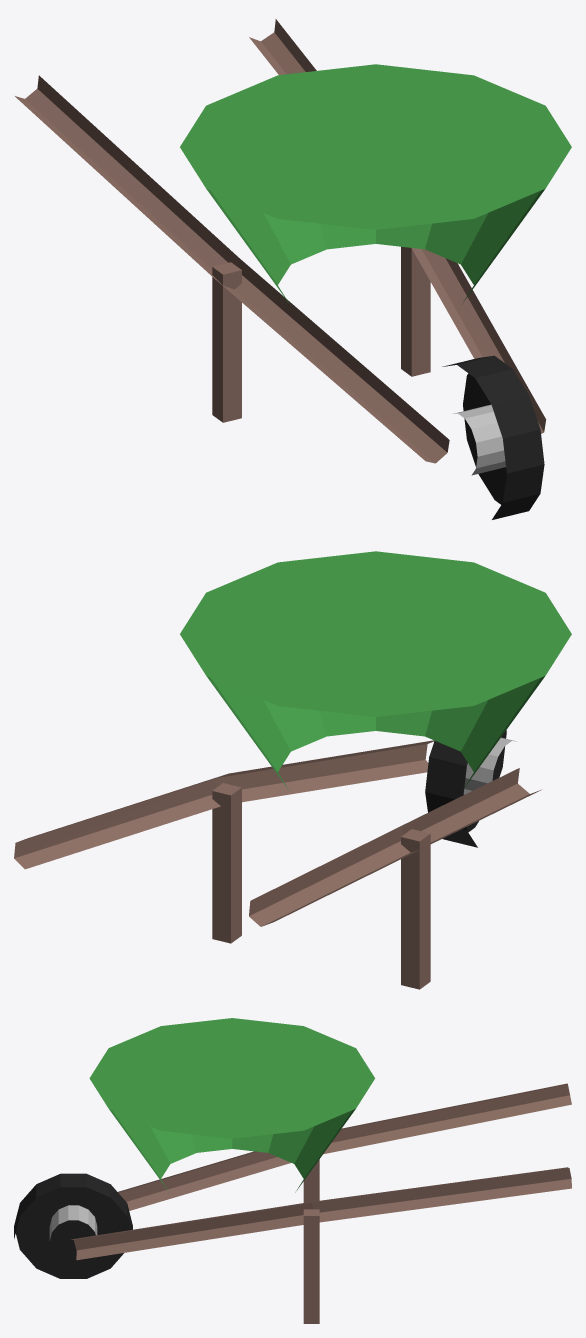
The model's file is skottkarra.glb.
The picture shows the model from 3 angles, top to bottom: view 1: azimuth 30°, elevation 25°; view 2: azimuth 150°, elevation 25°; view 3: azimuth 270°, elevation 25°; orthographic projection. The views are drawn at different scales.
Parts seen in each view (by area): view 1: skottkarra; view 2: skottkarra; view 3: skottkarra.
Boxes of the visible parts, bbox=[...] form: skottkarra: bbox=[15, 19, 571, 519]; skottkarra: bbox=[14, 551, 571, 989]; skottkarra: bbox=[14, 1018, 571, 1323].
Size of the model in its own units: 0.72 by 0.5799 by 1.41.
